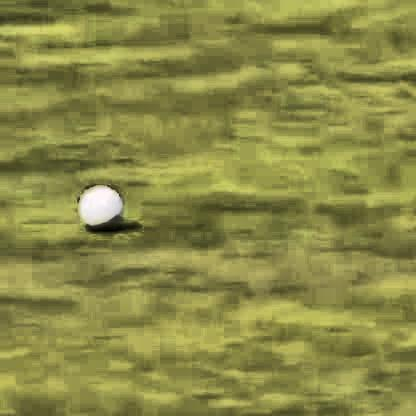golfball: (76, 181, 121, 229)
